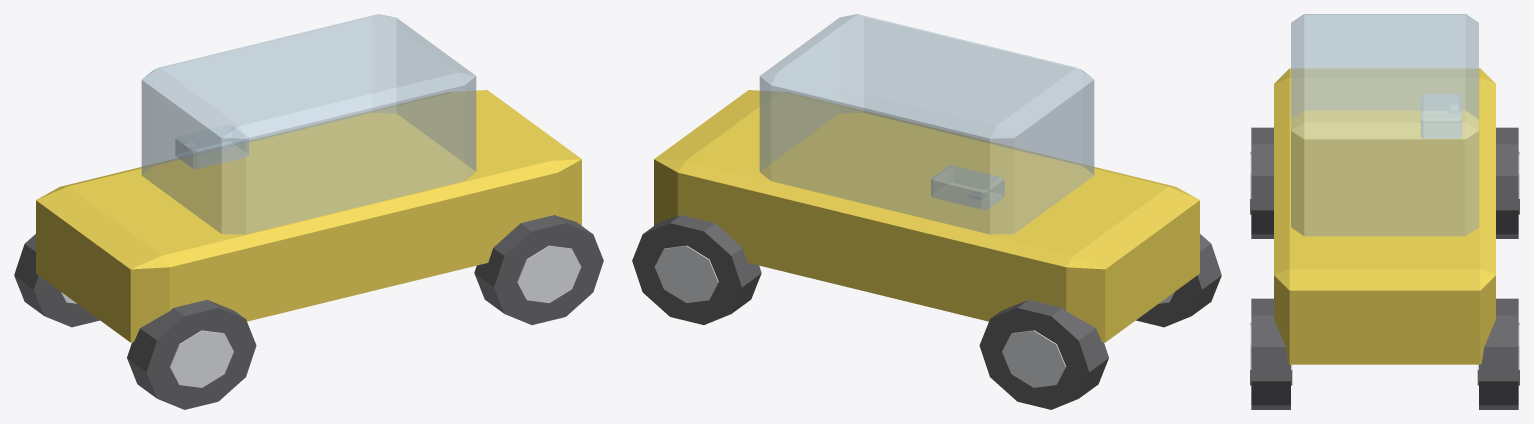
The model's file is b07_motor_grader.glb.
3 renders of one model, left to right at view 1: azimuth 30°, elevation 25°; view 2: azimuth 150°, elevation 25°; view 3: azimuth 270°, elevation 25°, orthographic.
Parts seen in each view (by area): view 1: b07_motor_grader; view 2: b07_motor_grader; view 3: b07_motor_grader.
Boxes of the visible parts, x1,y1,x2,y2 form: b07_motor_grader: [14, 14, 603, 409]; b07_motor_grader: [632, 14, 1221, 409]; b07_motor_grader: [1250, 14, 1519, 409].
Size of the model in its own units: 5.8 by 2.97 by 2.94.
